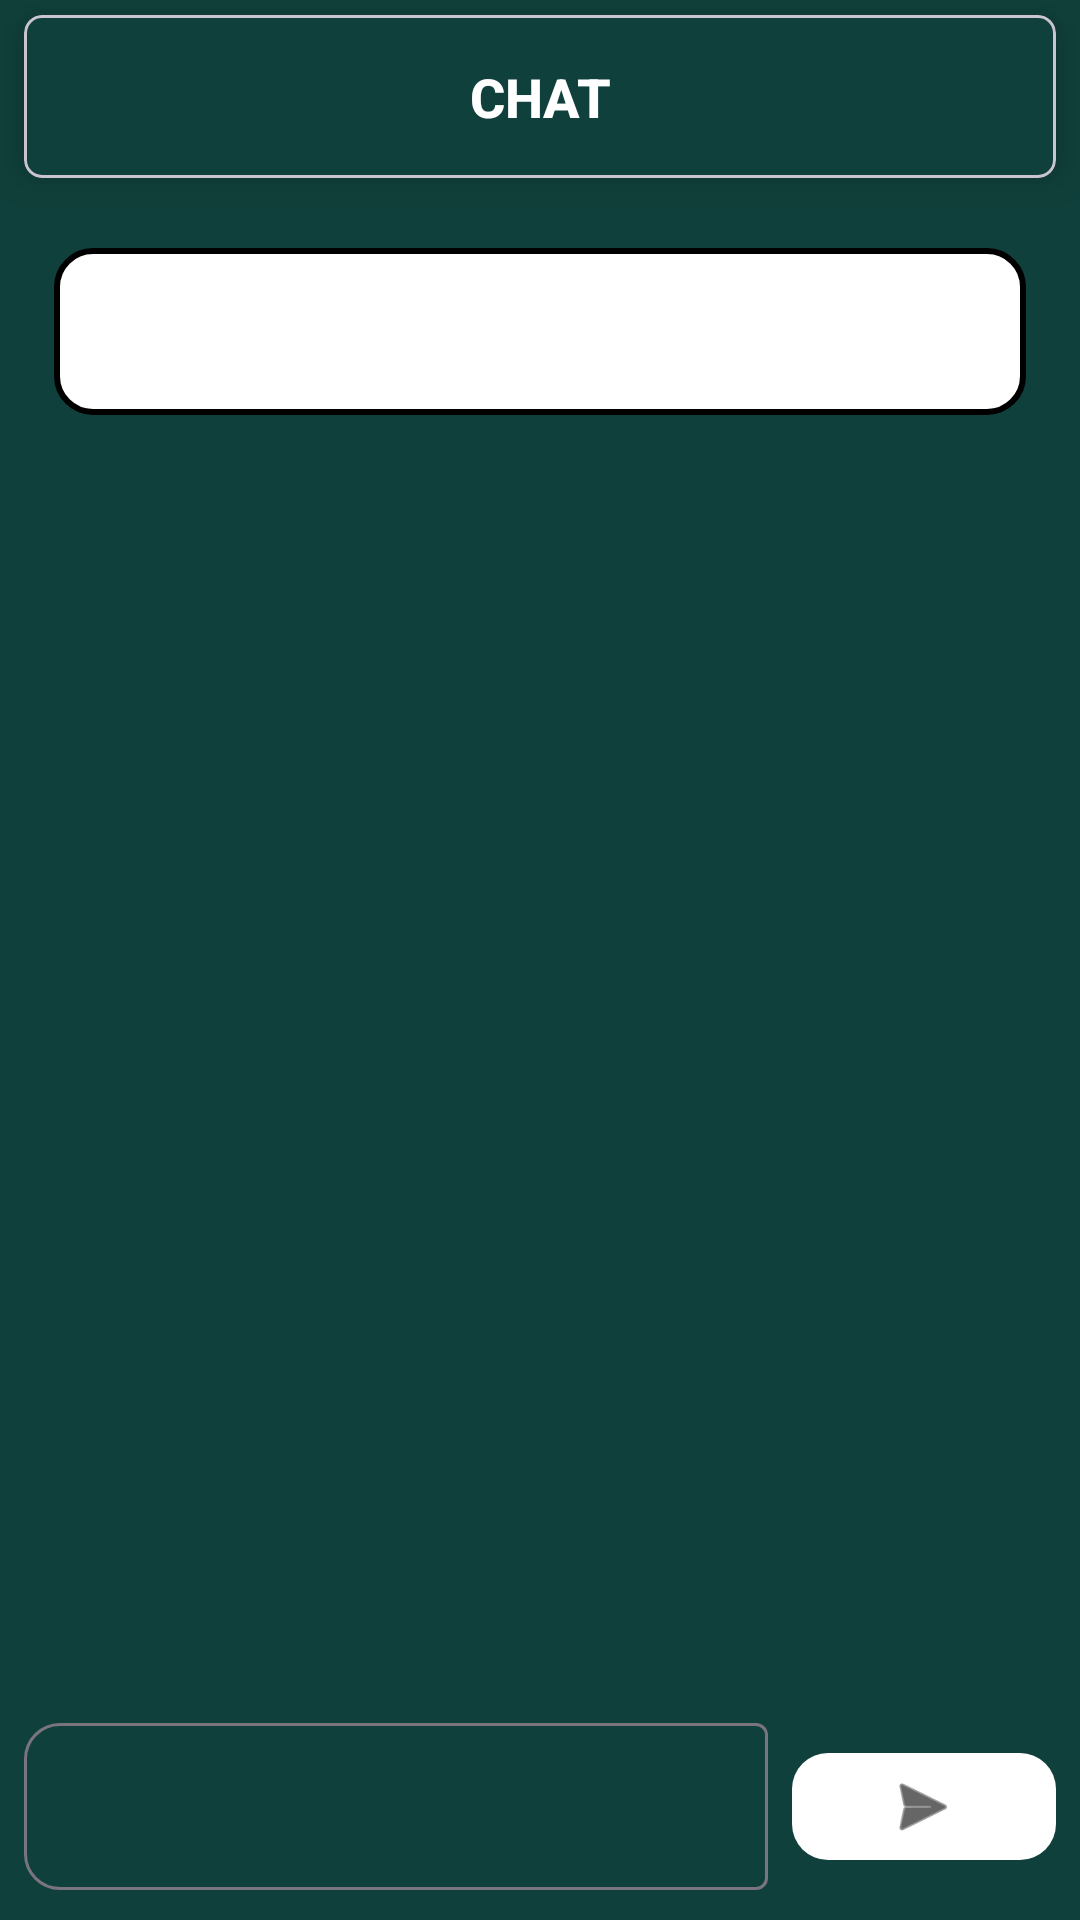

Icon bounding boxes for this 1080 × 1920 phone screenshot, format (x1, y1, x2, y2):
send: (792, 1753, 1056, 1860)
